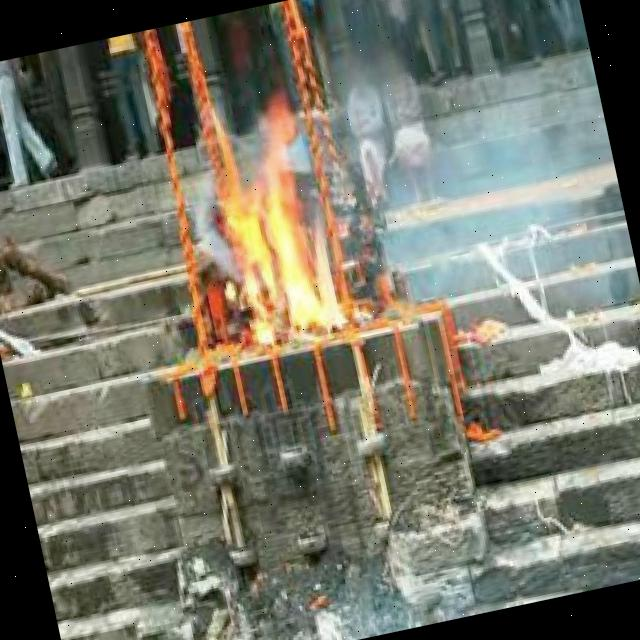fire: (208, 116, 361, 348)
